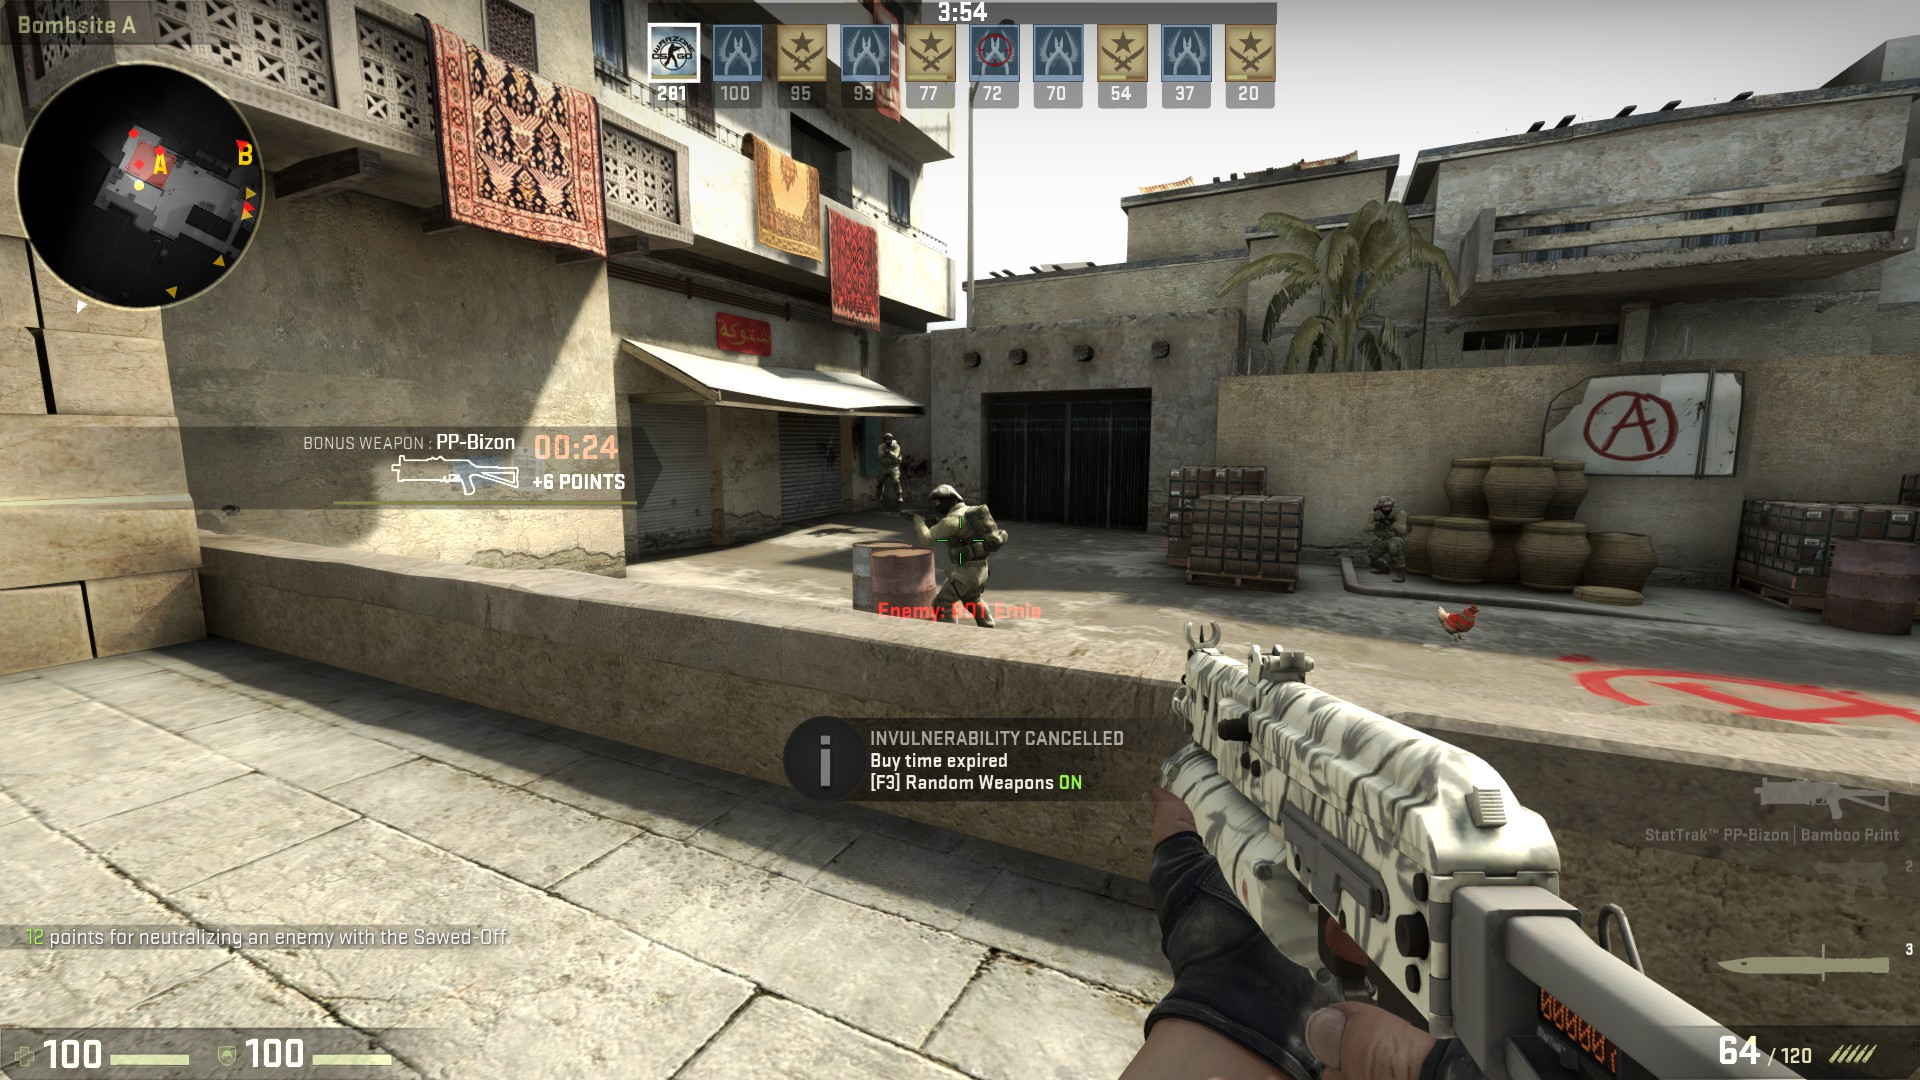c: (928, 481, 992, 628), (1367, 495, 1408, 583), (876, 433, 901, 504)
ch: (928, 481, 967, 516), (1375, 495, 1398, 516), (884, 433, 895, 448)
